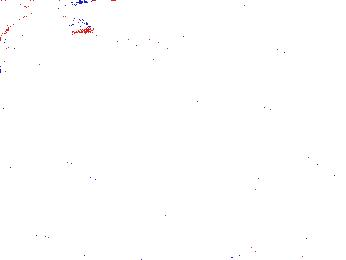moon jellyfish: (178, 86, 277, 199), (97, 38, 191, 109), (1, 9, 95, 75), (219, 46, 296, 121)
